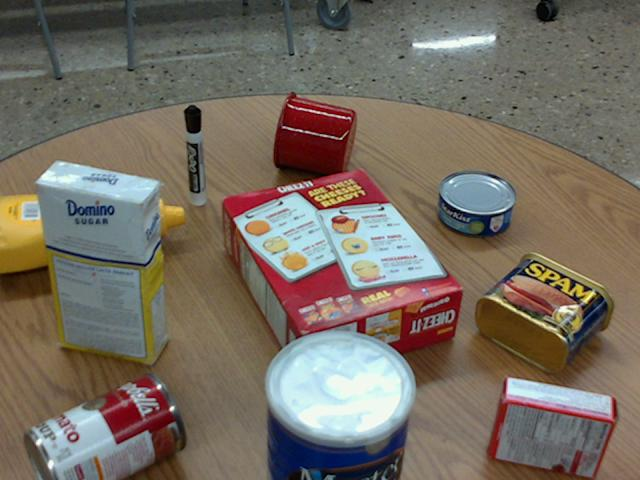cracker_box: (219, 169, 461, 376)
gelatin_box: (488, 375, 614, 477)
large_marker: (183, 105, 204, 204)
master_chef_can: (262, 331, 412, 479)
mug: (273, 91, 356, 176)
mustard_bottle: (0, 188, 183, 273)
potted_meat_can: (476, 251, 613, 372)
sugar_box: (35, 160, 163, 364)
tomato_soup_can: (25, 372, 185, 479)
tuna_fish_can: (437, 170, 516, 235)
